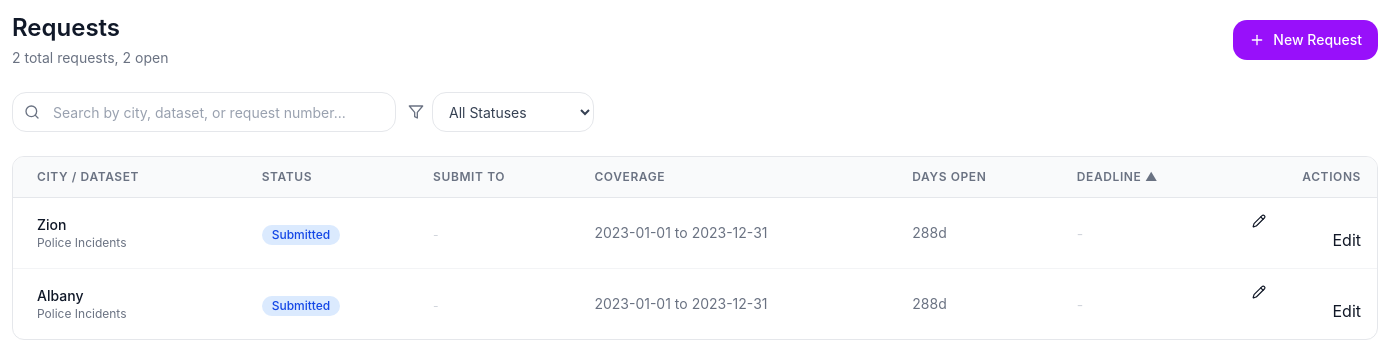
Test: RequestsListContent › toggles sort direction on second click
Check: the text "Zion" is shown, box top-left (37, 216), bottom-right (66, 233)
First click: sort asc by city
Click the column heading "City / Dataset" at (129, 177), box top-left (13, 157), bottom-right (246, 198)
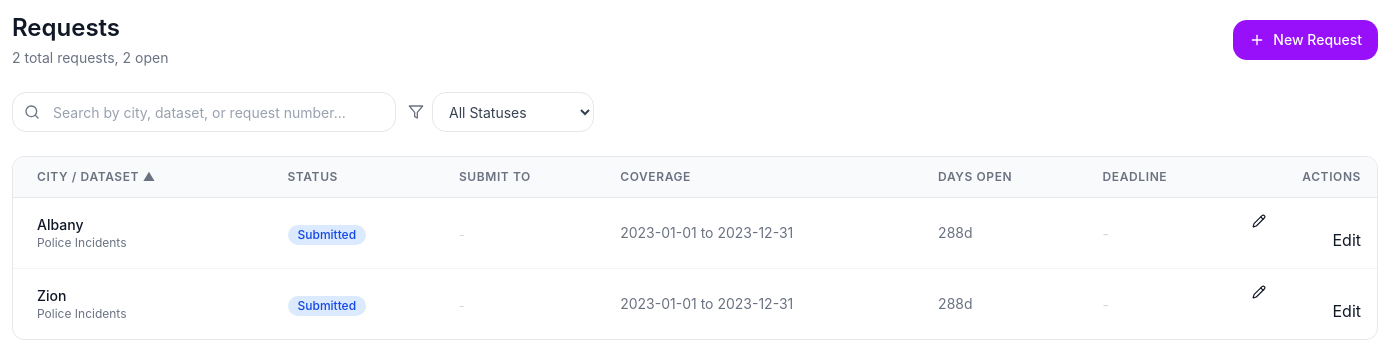
Check: the row that starts with "Albany" is shown, box top-left (37, 215), bottom-right (248, 251)
Second click: sort desc by city (re-query the header element)
Click the column heading "City / Dataset ▲" at (142, 177), box top-left (13, 157), bottom-right (272, 198)
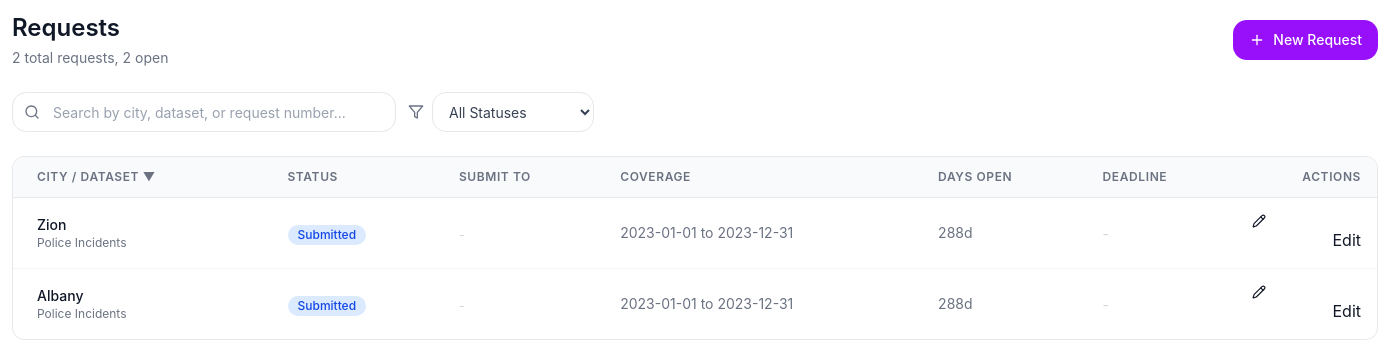
Check: the row that starts with "Zion" is shown, box top-left (37, 215), bottom-right (248, 251)
Check: the row that starts with "Albany" is shown, box top-left (37, 286), bottom-right (248, 322)
